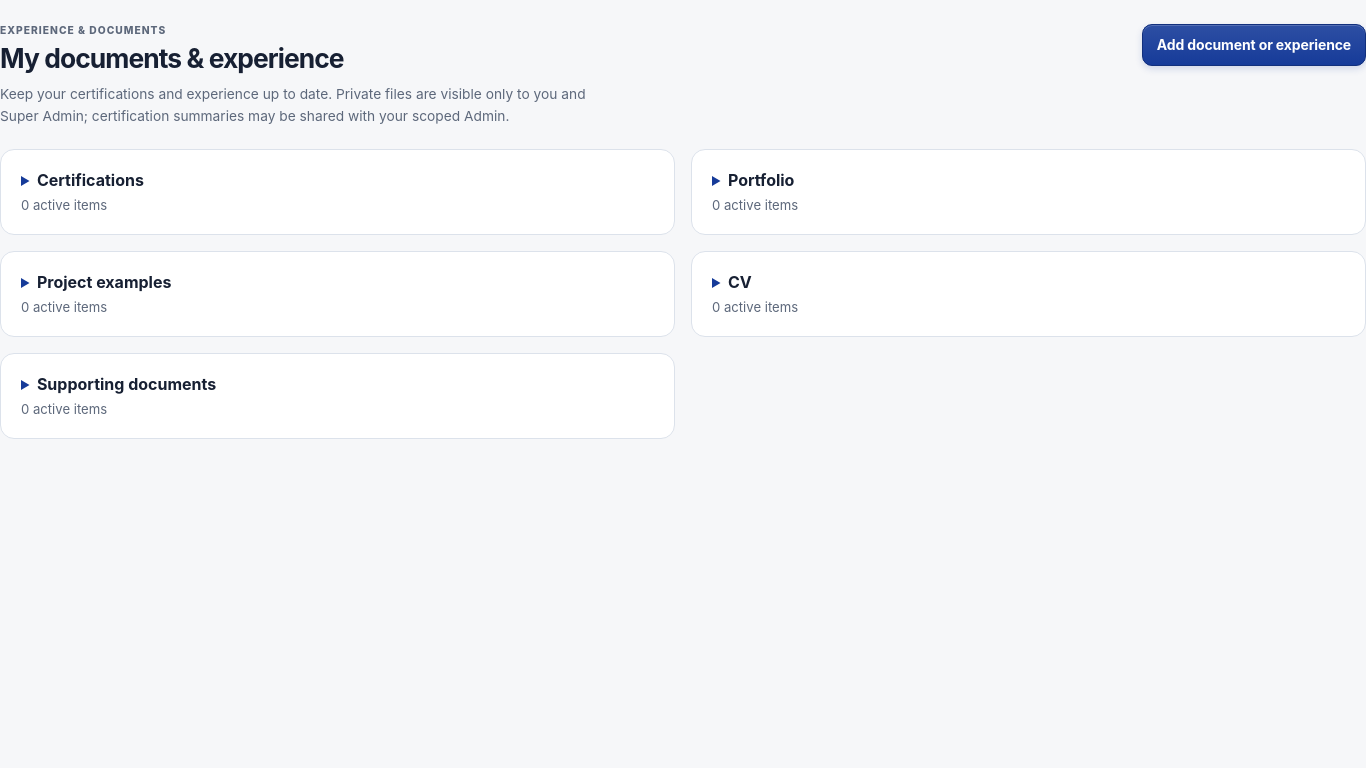
Test case: Phase 9 capability evidence forms › retains failed form details and its idempotency key for retry
Click the button "Add document or experience" at coordinates (1254, 45), box [1142, 24, 1365, 66]
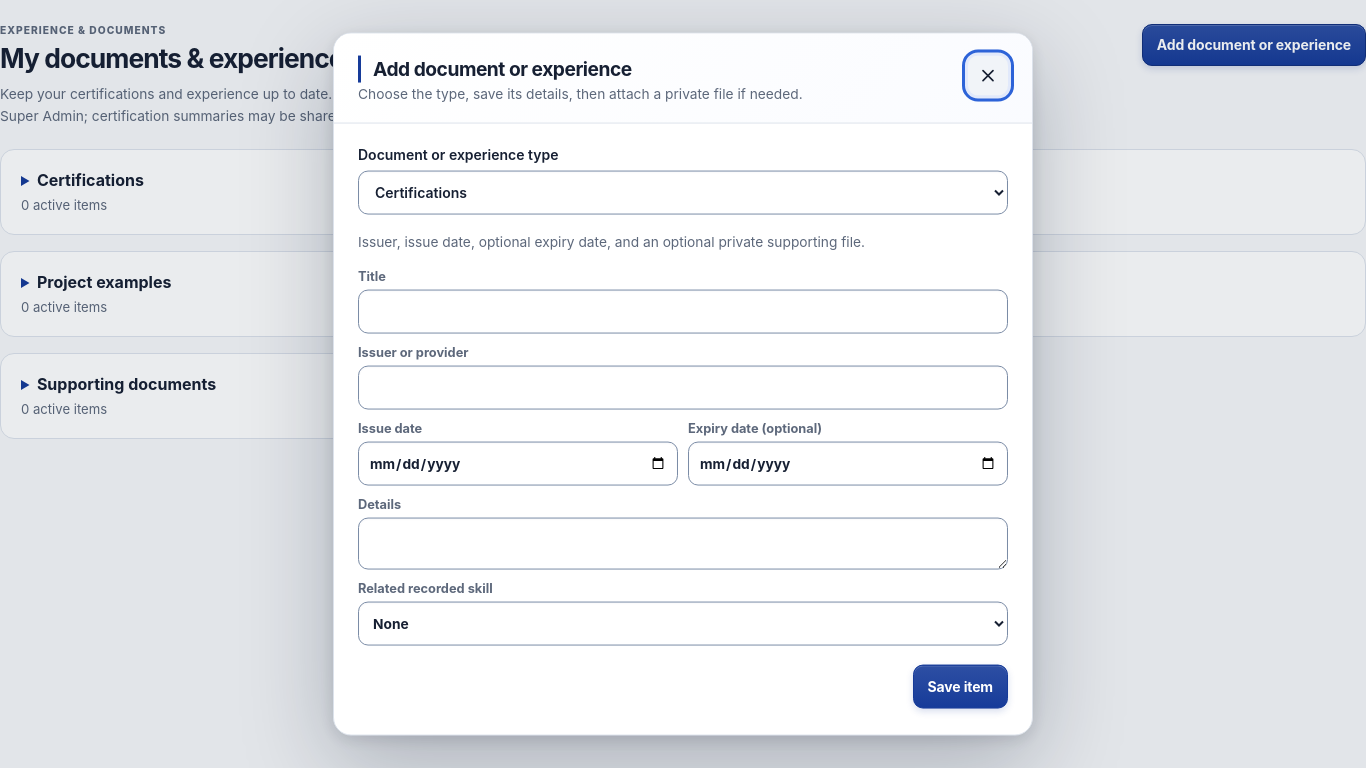
Type "Keep my title" into the field labelled "Title" at coordinates (683, 312), box [358, 290, 1008, 334]
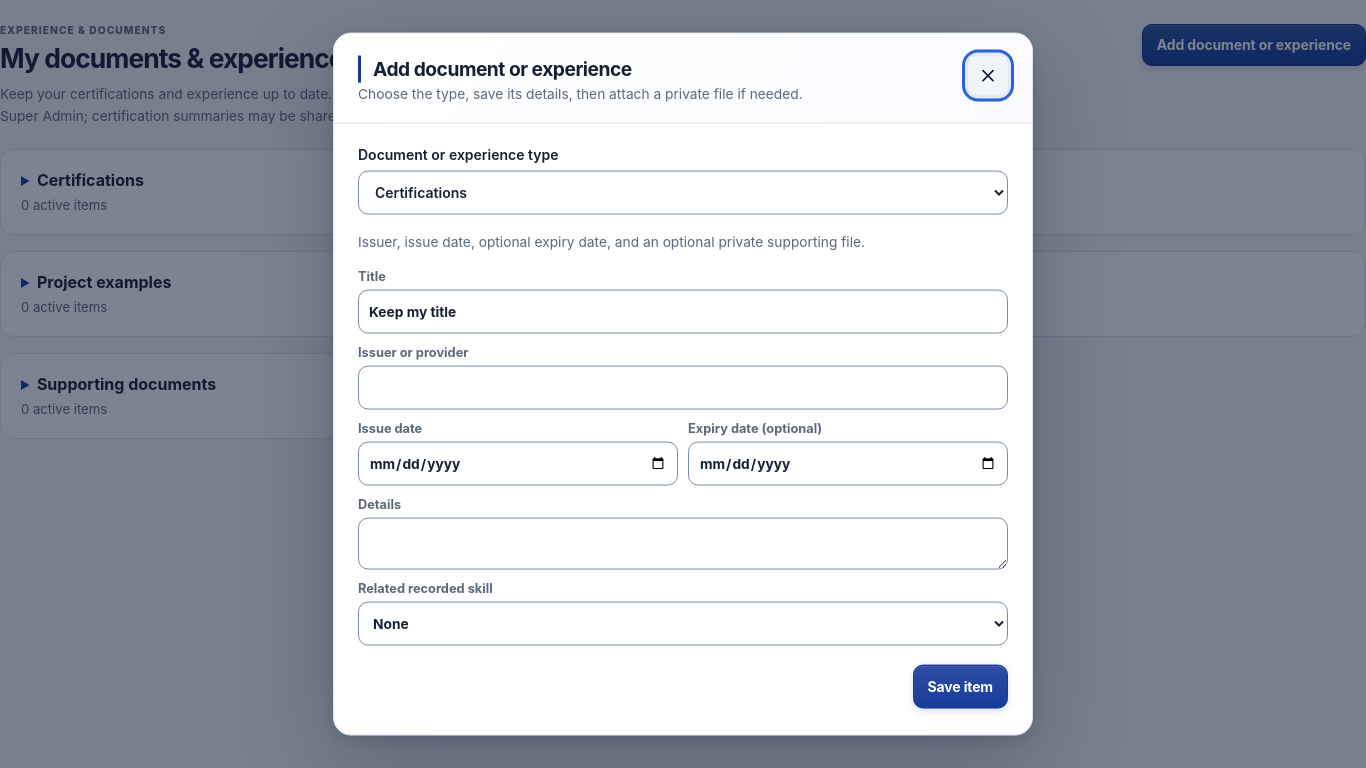
Submit the form named "Add document or experience", box [358, 268, 1008, 708]
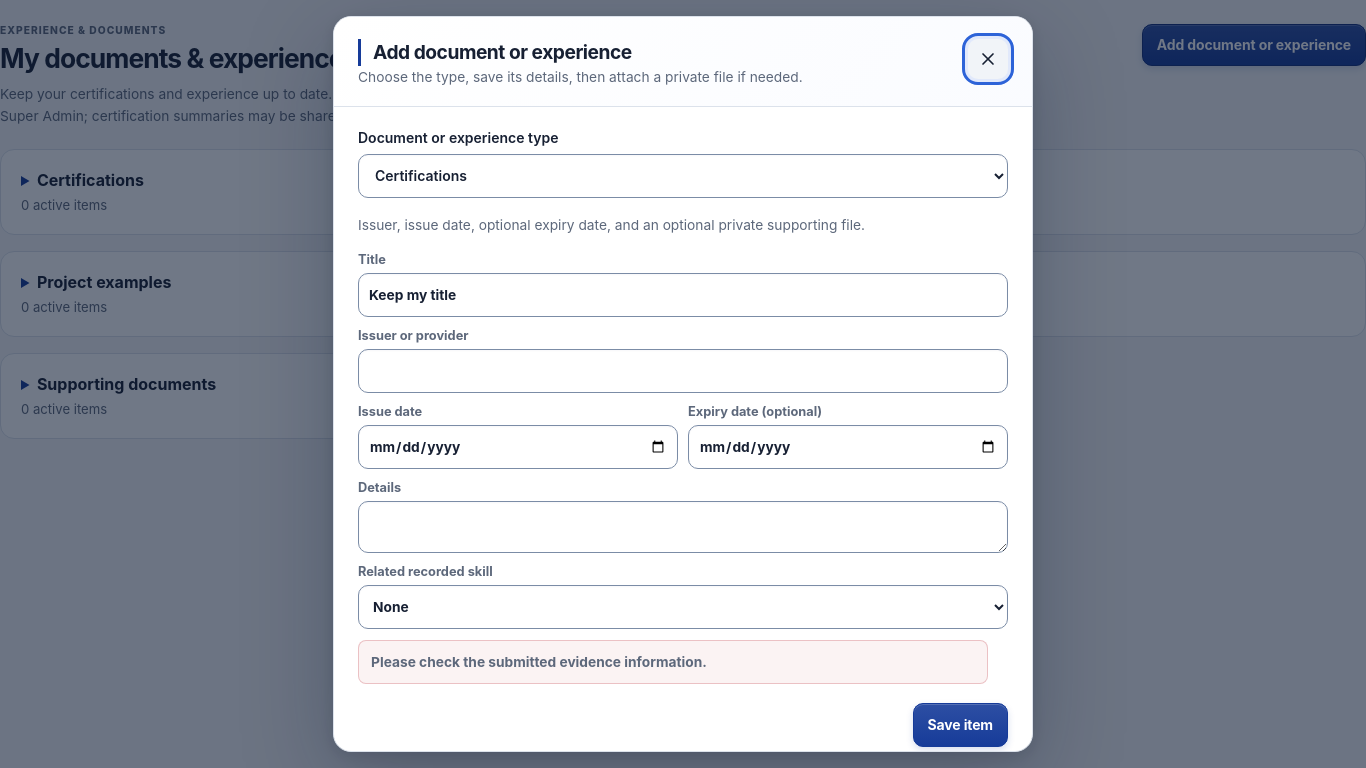
Expected: the message shows "Please check", [371, 654, 707, 670]
